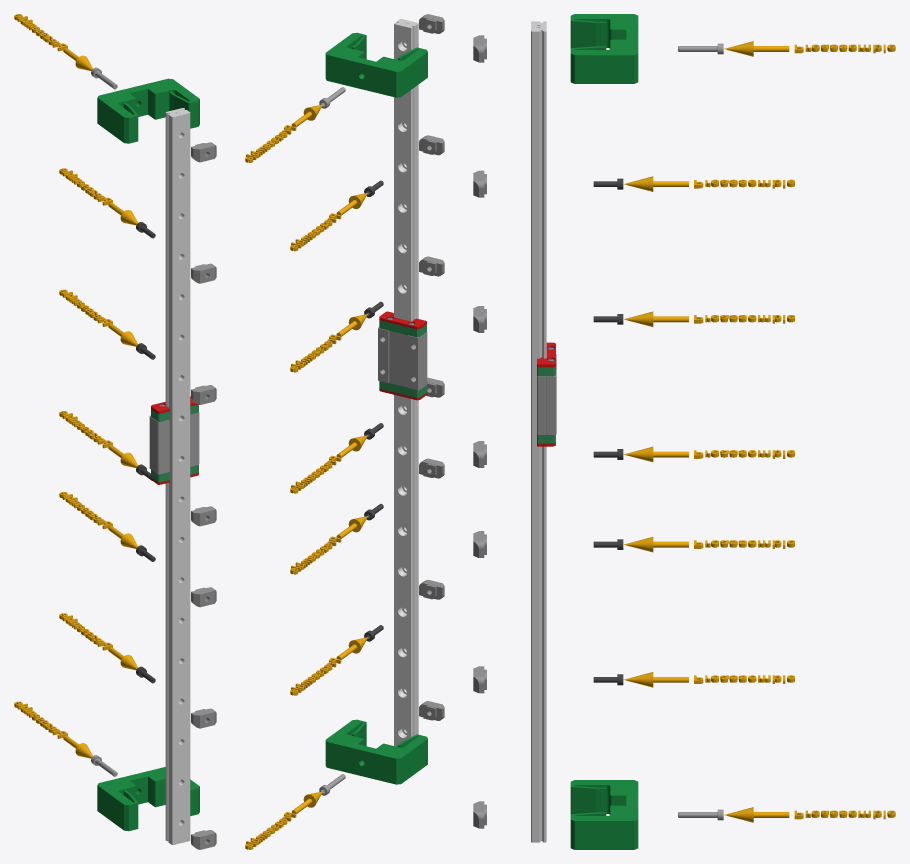
3 renders of one model, left to right at view 1: azimuth 30°, elevation 25°; view 2: azimuth 150°, elevation 25°; view 3: azimuth 270°, elevation 25°, orthographic. The views are drawn at different scales.
Parts seen in each view (by area): view 1: MGNR12R450HM_FILE_2 v1, 02_47__XP__Fix_MGN12_Rail___V1.0 v005, 02_47__XP__Fix_MGN12_Rail___V1.0 v4, MGN12H, LINEAR GUIDE BLOCK v1, 3030 Nut M3 v002, 3030 Nut M3 v006, 3030 Nut M3 v003, 3030 Nut M3 v1, 3030 Nut M3 v007, 3030 Nut M3 v004, 3030 Nut M3 v005; view 2: MGNR12R450HM_FILE_2 v1, 02_47__XP__Fix_MGN12_Rail___V1.0 v005, 02_47__XP__Fix_MGN12_Rail___V1.0 v4, MGN12H, LINEAR GUIDE BLOCK v1, 3030 Nut M3 v006, 3030 Nut M3 v005, 3030 Nut M3 v002, 3030 Nut M3 v003, 3030 Nut M3 v1, 3030 Nut M3 v007, MGN12H, LINEAR GUIDE BLOCK v002, MGN12H, LINEAR GUIDE BLOCK v003; view 3: MGNR12R450HM_FILE_2 v1, 02_47__XP__Fix_MGN12_Rail___V1.0 v4, 02_47__XP__Fix_MGN12_Rail___V1.0 v005, MGN12H, LINEAR GUIDE BLOCK v1.
Boxes of the visible parts, <box> form: MGNR12R450HM_FILE_2 v1: <box>165,108,190,844</box>; 02_47__XP__Fix_MGN12_Rail___V1.0 v005: <box>97,78,199,143</box>; 02_47__XP__Fix_MGN12_Rail___V1.0 v4: <box>97,767,199,831</box>; MGN12H, LINEAR GUIDE BLOCK v1: <box>149,412,199,474</box>; 3030 Nut M3 v002: <box>191,708,216,728</box>; 3030 Nut M3 v006: <box>191,263,216,283</box>; 3030 Nut M3 v003: <box>191,587,216,607</box>; 3030 Nut M3 v1: <box>191,830,216,849</box>; 3030 Nut M3 v007: <box>191,142,216,162</box>; 3030 Nut M3 v004: <box>191,506,216,526</box>; 3030 Nut M3 v005: <box>191,385,216,404</box>; MGNR12R450HM_FILE_2 v1: <box>394,19,418,746</box>; 02_47__XP__Fix_MGN12_Rail___V1.0 v005: <box>325,32,427,97</box>; 02_47__XP__Fix_MGN12_Rail___V1.0 v4: <box>325,719,427,784</box>; MGN12H, LINEAR GUIDE BLOCK v1: <box>378,327,427,390</box>; 3030 Nut M3 v006: <box>419,135,444,155</box>; 3030 Nut M3 v005: <box>419,256,444,276</box>; 3030 Nut M3 v002: <box>419,579,444,599</box>; 3030 Nut M3 v003: <box>419,458,444,478</box>; 3030 Nut M3 v1: <box>419,701,444,720</box>; 3030 Nut M3 v007: <box>419,14,444,33</box>; MGN12H, LINEAR GUIDE BLOCK v002: <box>379,320,426,337</box>; MGN12H, LINEAR GUIDE BLOCK v003: <box>379,381,426,397</box>; MGNR12R450HM_FILE_2 v1: <box>531,21,546,842</box>; 02_47__XP__Fix_MGN12_Rail___V1.0 v4: <box>570,780,638,849</box>; 02_47__XP__Fix_MGN12_Rail___V1.0 v005: <box>570,14,638,83</box>; MGN12H, LINEAR GUIDE BLOCK v1: <box>537,354,556,434</box>.
Size of the model in its own units: 0.049 by 0.45 by 0.2123.
